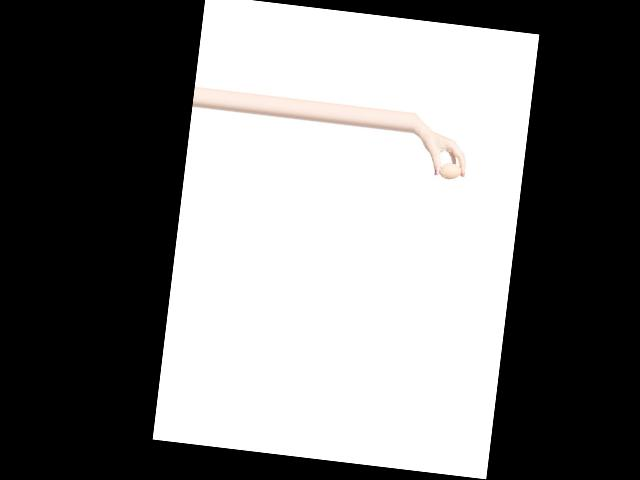egg: (438, 162, 461, 179)
